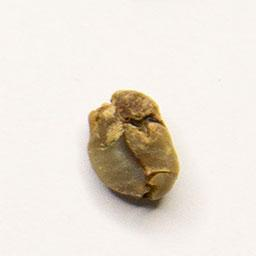defect: (83, 85, 183, 207)
